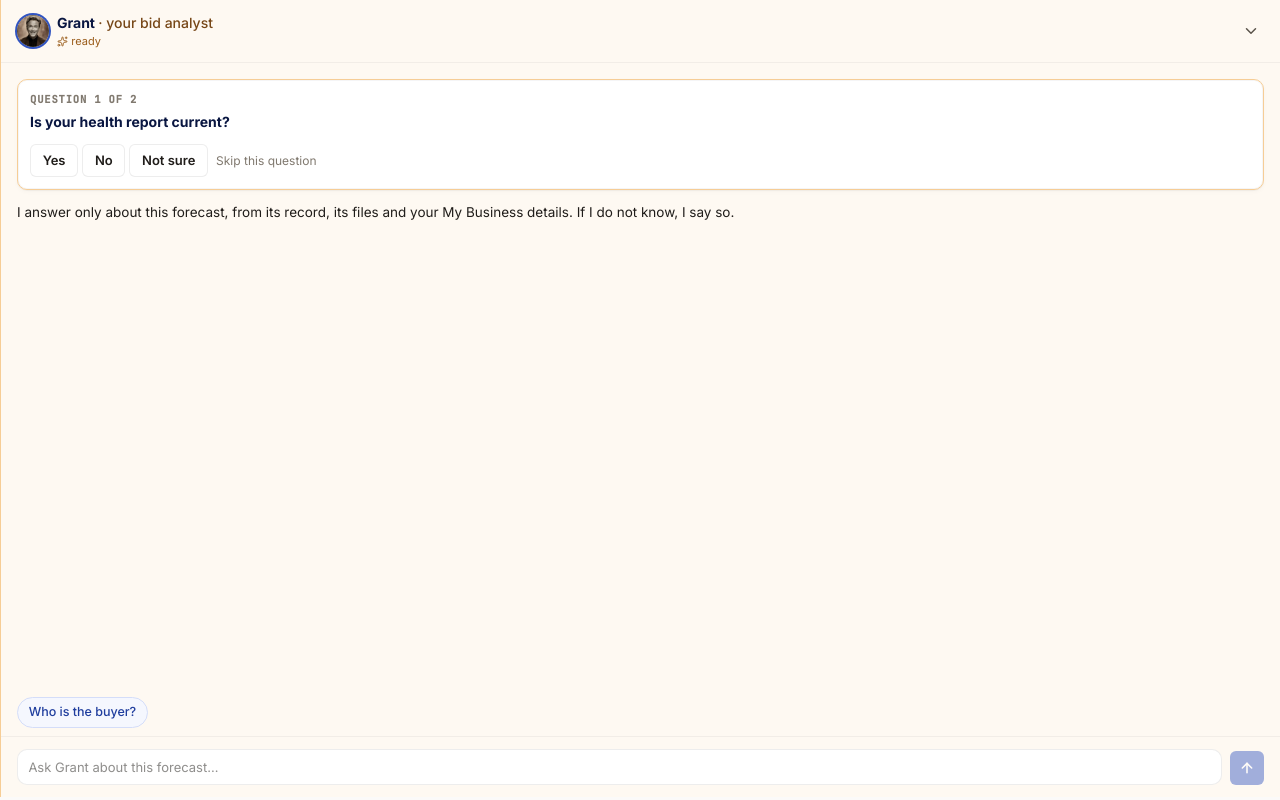
Test: ForecastGrantRail — questions › says it has everything once every question has a real answer
The image size is (1280, 800).
Click the button "Yes" at (54, 161), box [30,144,78,178]
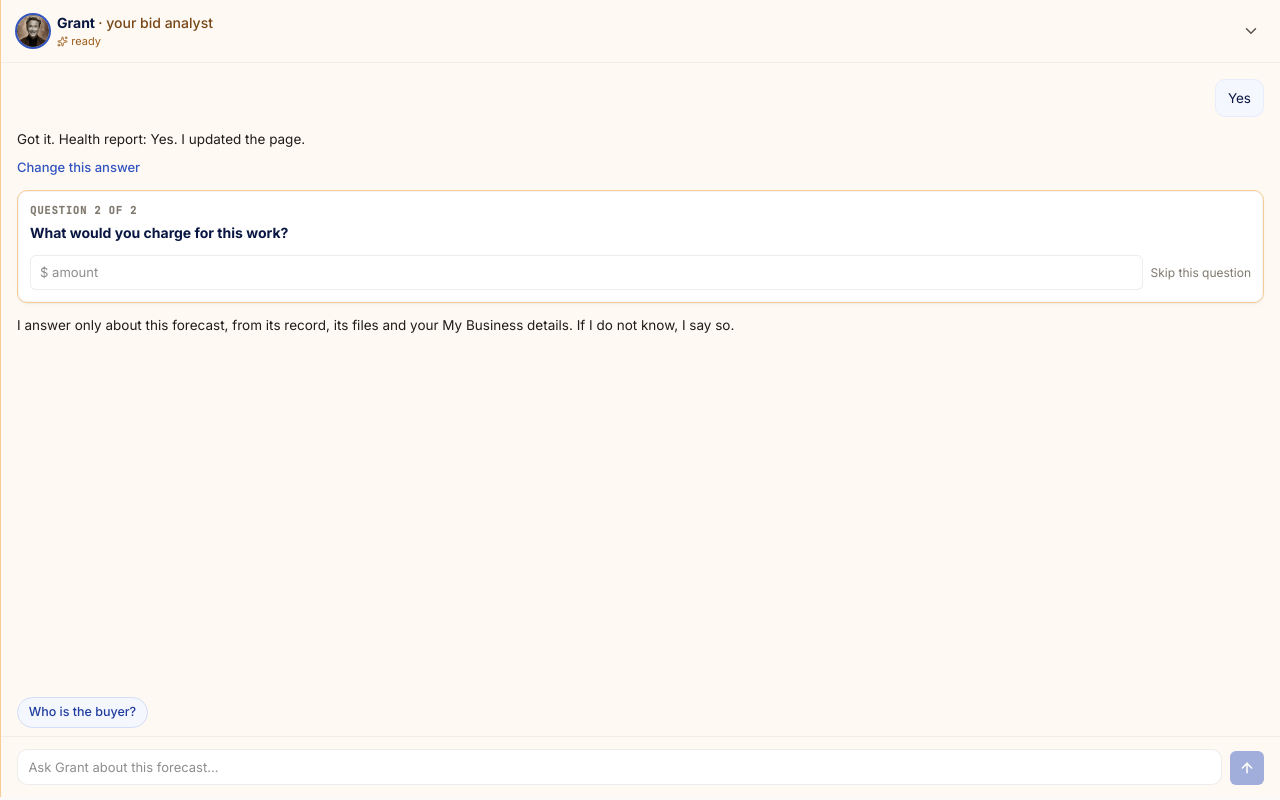
Type "900" into the field named "Your price, in dollars" at (586, 273), box [30,255,1142,290]
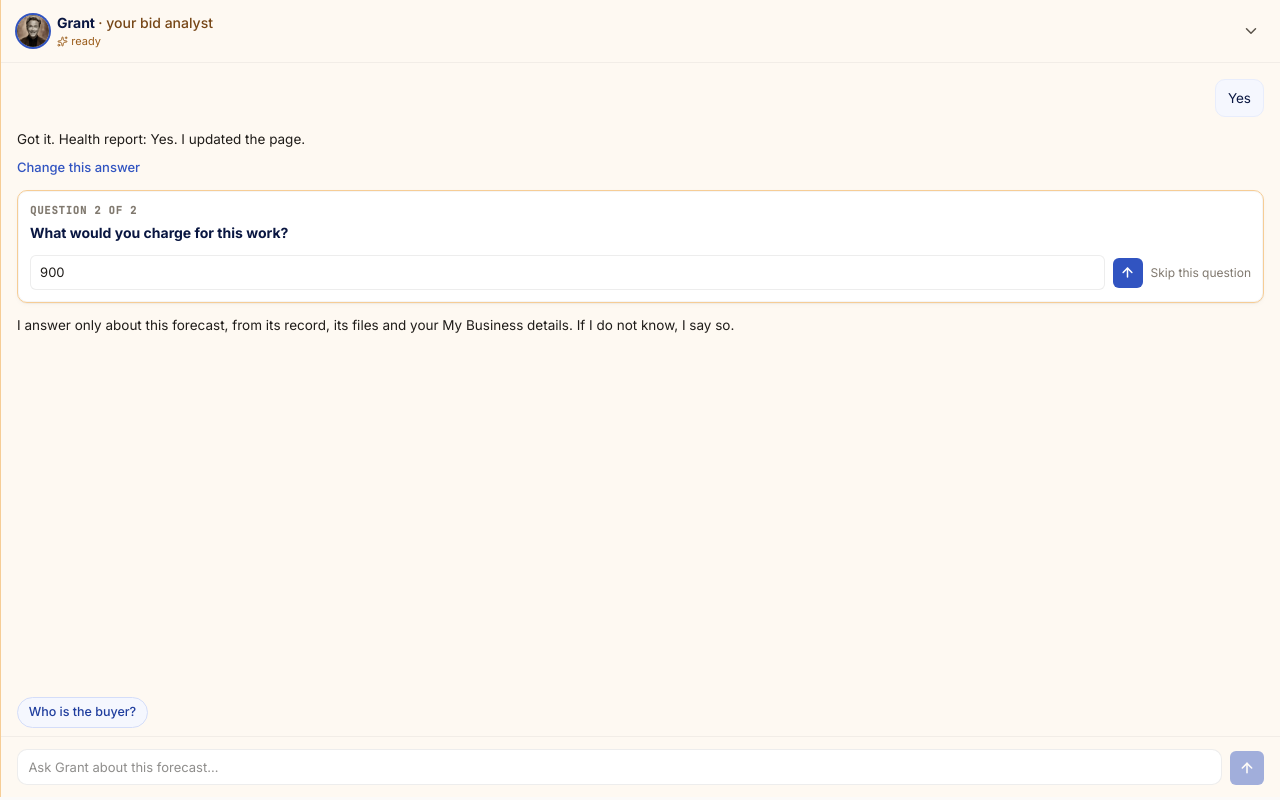
Click the button named "Send your price" at (1128, 272), box [1112,258,1142,288]
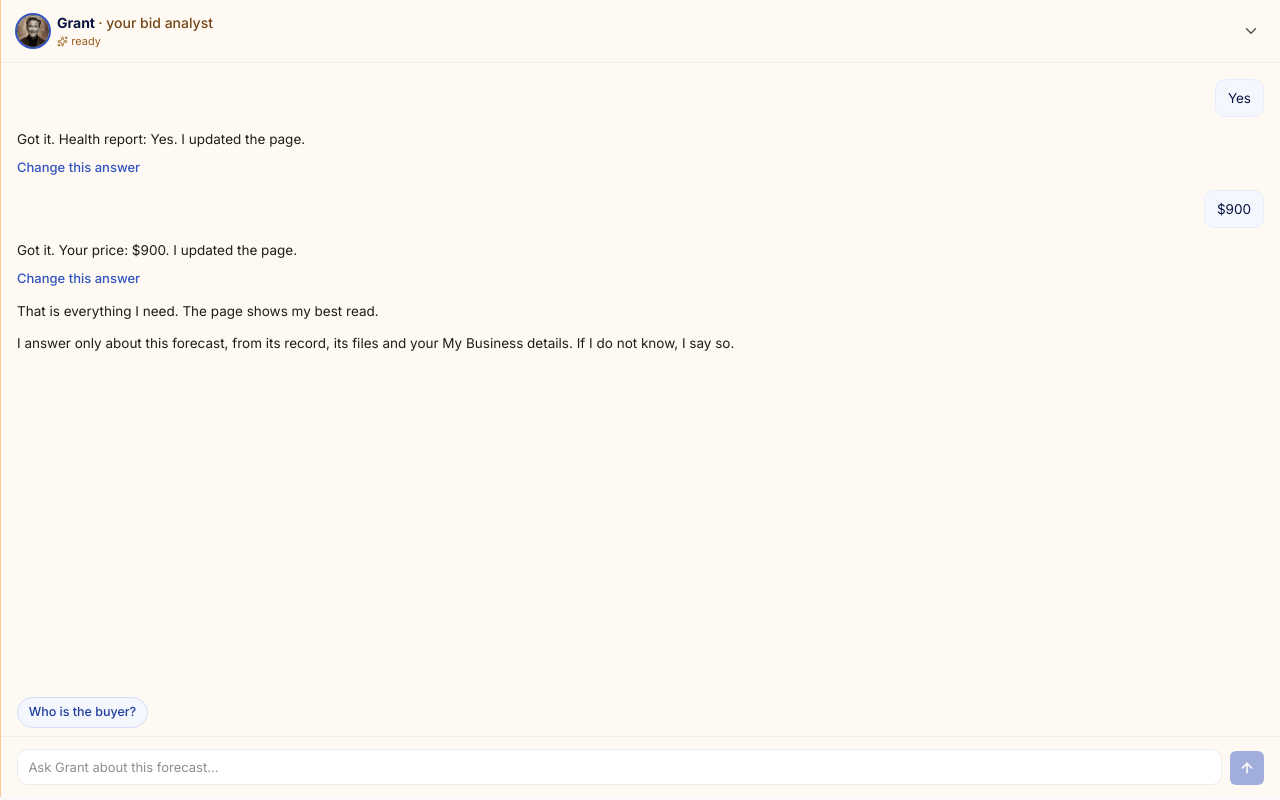
Expected: the text "That is everything I need. The page shows my best read." is shown, [17,302,379,318]
